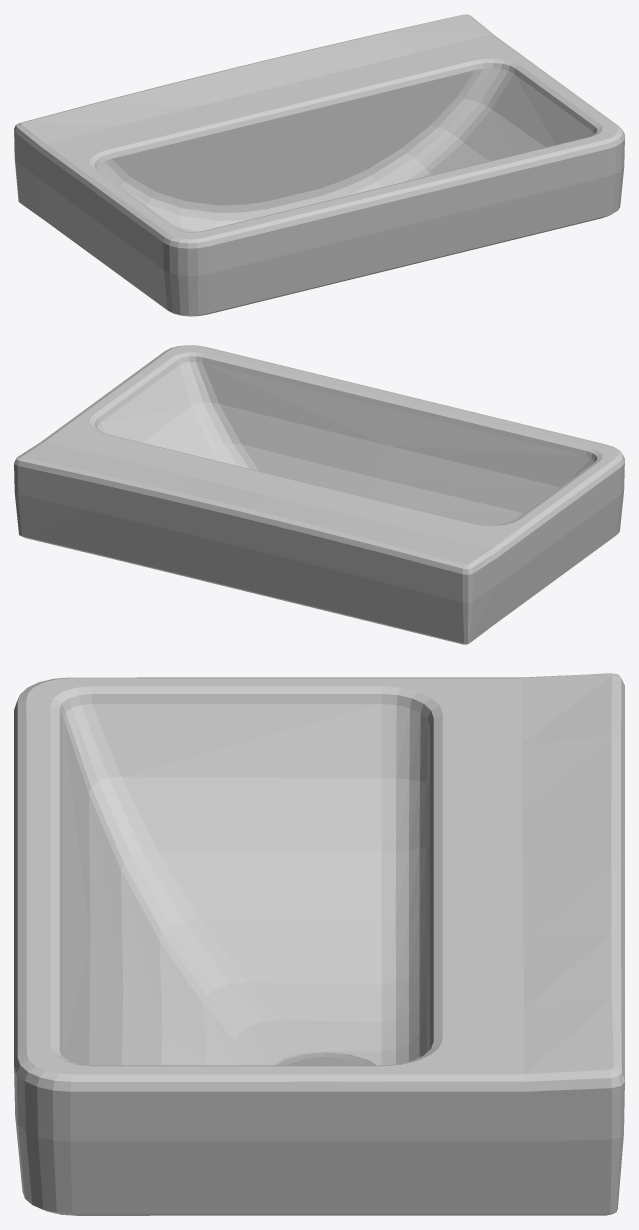
File: AEC_29810.glb
3 views of the same model, one above another, from view 1: azimuth 30°, elevation 25°; view 2: azimuth 150°, elevation 25°; view 3: azimuth 270°, elevation 25° (orthographic). The views are drawn at different scales.
Visible parts, largest first — view 1: 0; view 2: 0; view 3: 0.
Boxes of the visible parts, x1,y1,x2,y2 form: 0: [14, 14, 624, 316]; 0: [14, 345, 624, 644]; 0: [14, 673, 624, 1215].
Bounding box in the file's own units: 0.6 × 0.1532 × 0.38.
Materials: 1 (1 with a texture image).
